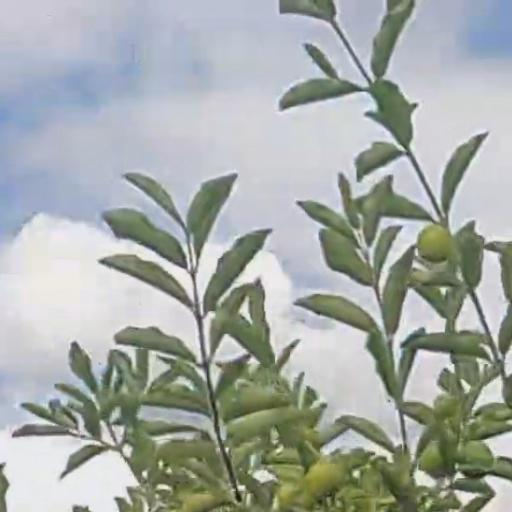acerola: (419, 225, 452, 263)
